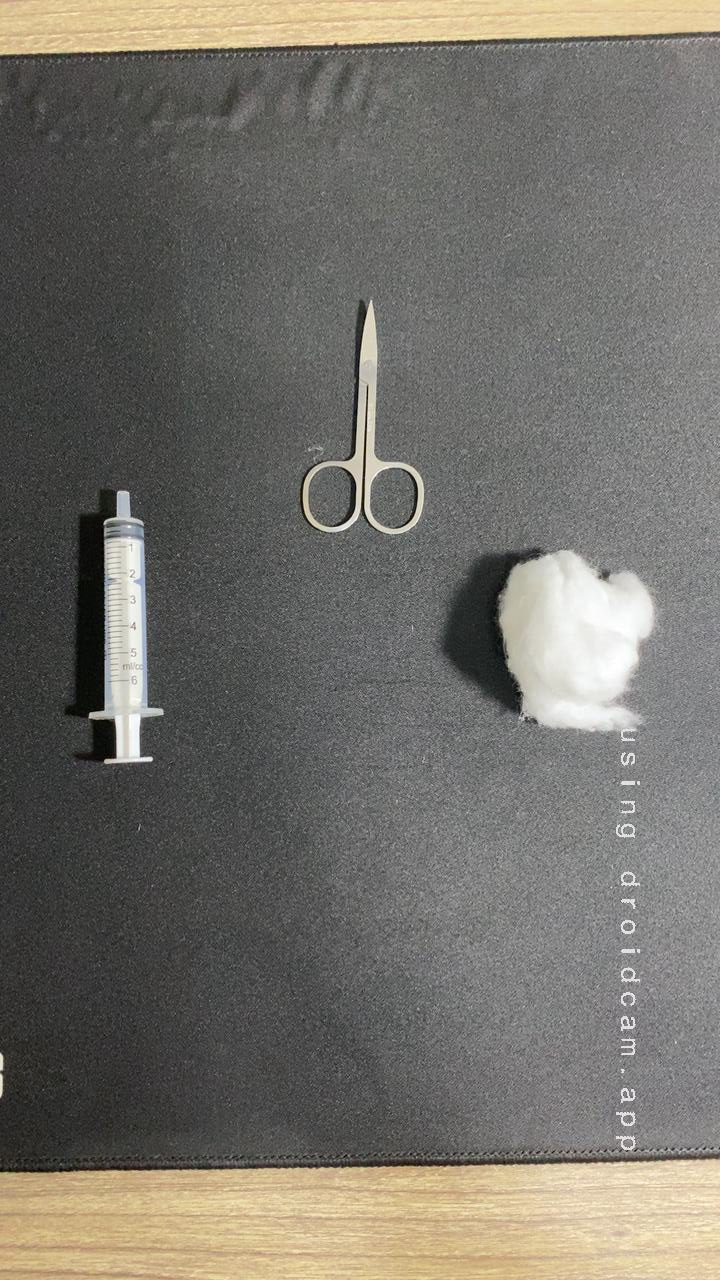cotton: (464, 535, 676, 748)
scissor: (278, 286, 443, 544)
syringe: (57, 471, 188, 777)
